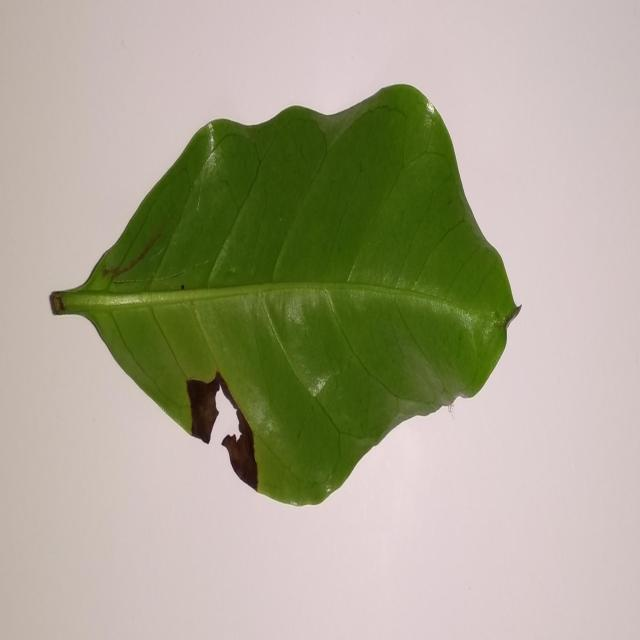phoma: (187, 372, 258, 491)
